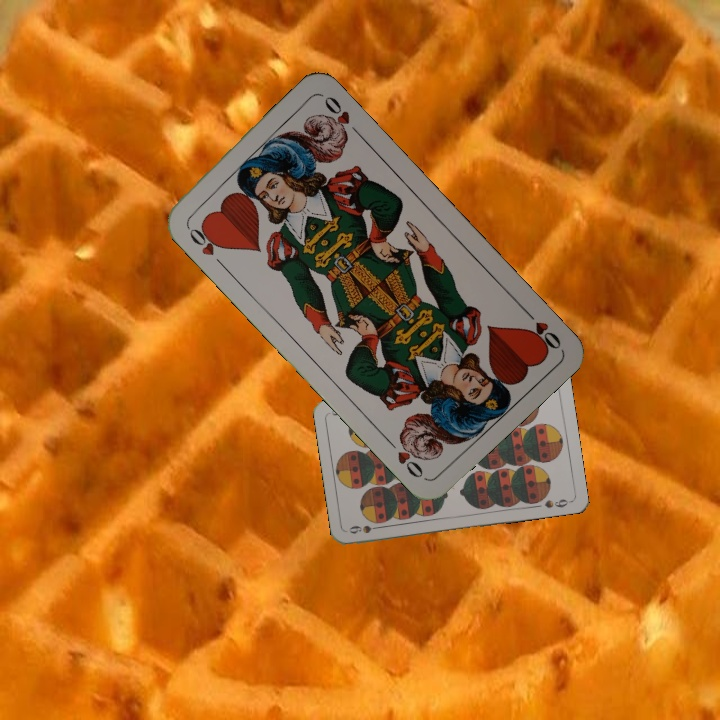HO: (519, 303, 564, 355), (182, 220, 227, 269)
S9: (345, 521, 386, 536)
